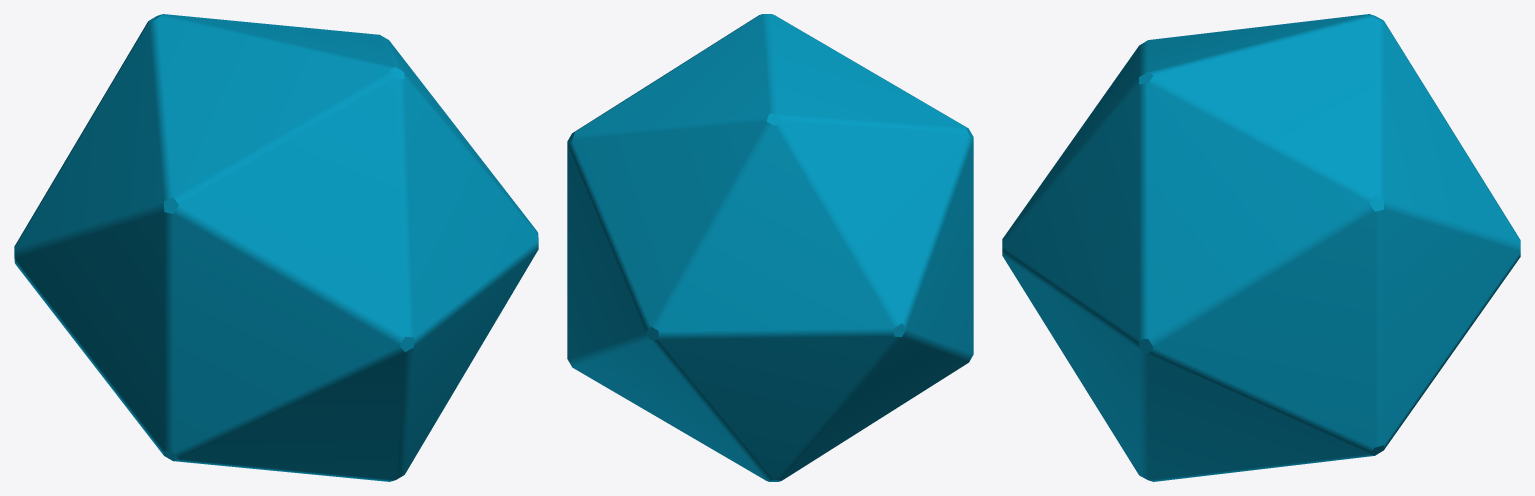
The model's file is Load.fbx.
The picture shows the model from 3 angles, left to right: view 1: azimuth 30°, elevation 25°; view 2: azimuth 150°, elevation 25°; view 3: azimuth 270°, elevation 25°; orthographic projection. The views are drawn at different scales.
Parts seen in each view (by area): view 1: Load; view 2: Load; view 3: Load.
Boxes of the visible parts, box(x1,y1,x2,y2) form: Load: box(14, 14, 538, 481); Load: box(567, 14, 973, 481); Load: box(1002, 14, 1520, 481).
Bounding box in the file's own units: 3.55 × 3.37 × 3.9.
